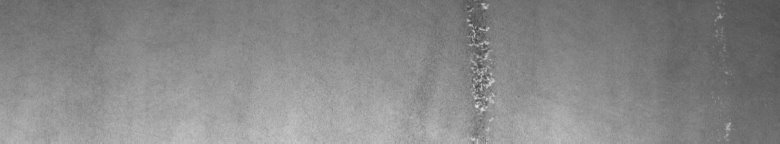hc: (462, 4, 497, 136)
